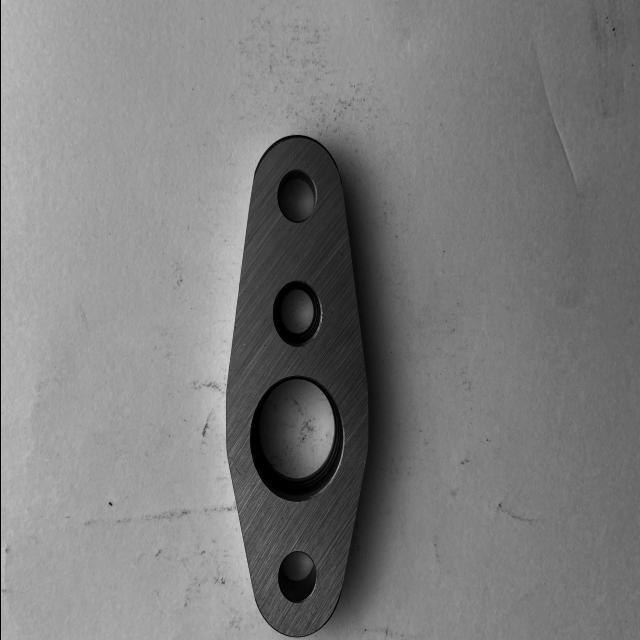chap: (246, 232, 250, 238), (292, 152, 296, 158), (240, 343, 244, 347)
lines: (232, 466, 241, 478)
